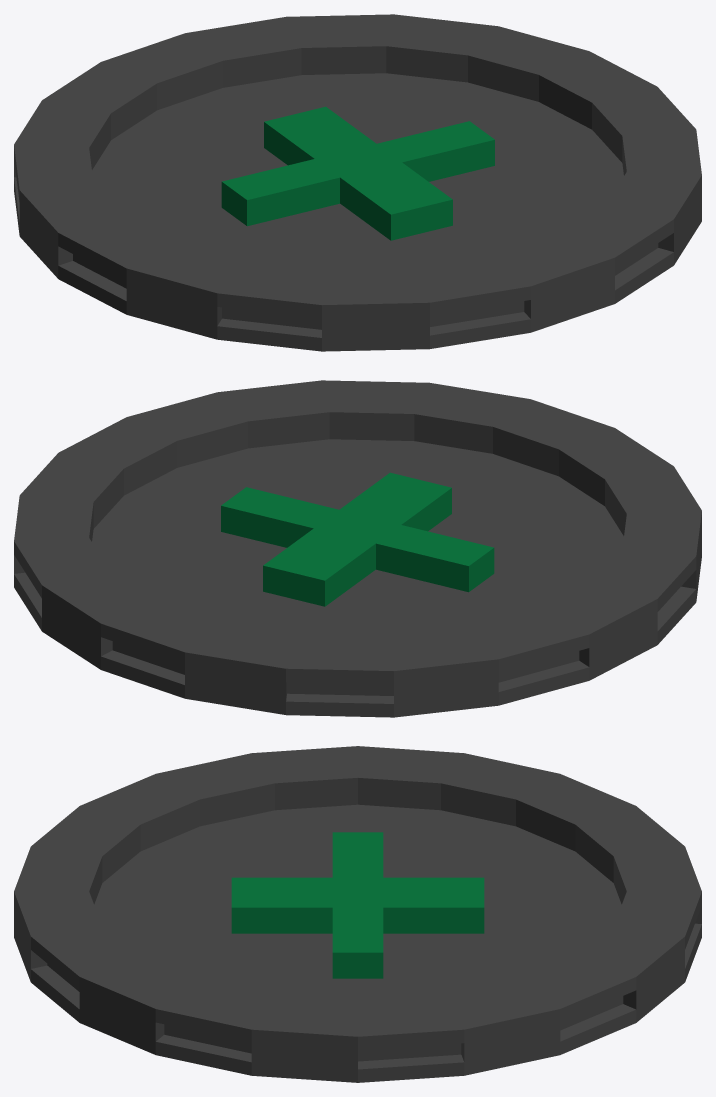
The model's file is PlatCuracion.fbx.
3 views of the same model, one above another, from view 1: azimuth 30°, elevation 25°; view 2: azimuth 150°, elevation 25°; view 3: azimuth 270°, elevation 25° (orthographic).
Parts seen in each view (by area): view 1: Plataforma, Cruz; view 2: Plataforma, Cruz; view 3: Plataforma, Cruz.
Part boxes in pixels (x1,y1,x2,y2): Plataforma: (14,14,701,351); Cruz: (221,106,494,240); Plataforma: (14,380,701,717); Cruz: (221,472,494,606); Plataforma: (14,746,701,1082); Cruz: (231,832,484,978).
Bounding box in the file's own units: 3.71 × 0.2743 × 3.71.
